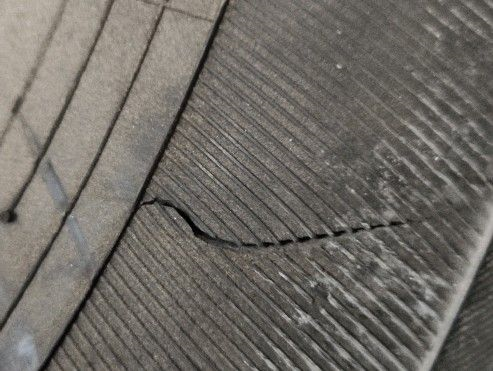cut: (140, 195, 436, 254)
